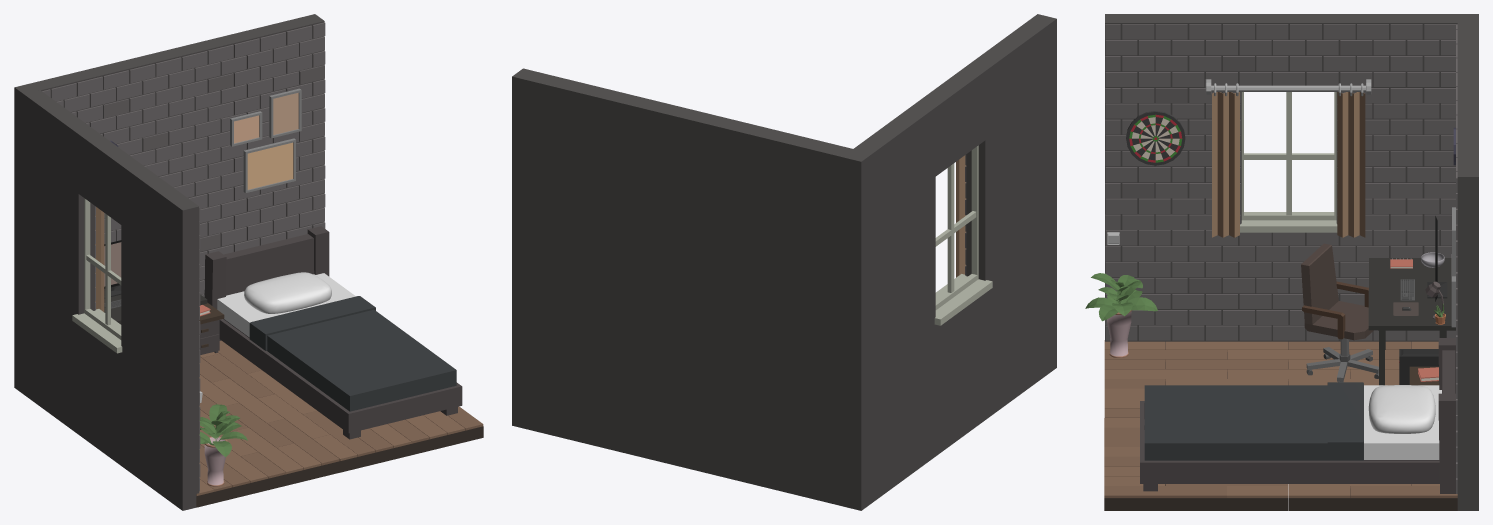
File: Room.glb
3 renders of one model, left to right at view 1: azimuth 30°, elevation 25°; view 2: azimuth 150°, elevation 25°; view 3: azimuth 270°, elevation 25°, orthographic. The views are drawn at different scales.
Parts seen in each view (by area): view 1: Wall_02, Wall_01, Bed, Floor, Bed_01, Picture_01, Picture_02, Flower_03, Picture_03, Bed_Table, Curtains, Flower_02 (+1 smaller); view 2: Wall_01, Wall_02, Curtains; view 3: Wall_02, Bed, Floor, Wall_01, Curtains, OfficeChair, Table, Bed_01, Darts, Flower_03, PC, Flower_02.
Boxes of the visible parts, x1,y1,x2,y2 form: Wall_02: (14,84,200,510); Wall_01: (28,14,325,324); Bed: (204,226,462,439); Floor: (196,340,483,507); Bed_01: (244,272,331,313); Picture_01: (243,138,295,193); Picture_02: (269,88,301,138); Flower_03: (199,404,247,457); Picture_03: (230,111,262,146); Bed_Table: (199,302,224,354); Curtains: (95,207,104,311); Flower_02: (204,436,227,486); Wall_01: (512,68,856,505); Wall_02: (842,14,1056,510); Curtains: (956,155,966,277); Wall_02: (1105,14,1478,343); Bed: (1140,338,1455,493); Floor: (1104,340,1457,510); Wall_01: (1456,21,1478,510); Curtains: (1205,79,1371,237); OfficeChair: (1301,243,1378,382); Table: (1368,258,1455,385); Bed_01: (1368,385,1435,433); Darts: (1126,111,1185,165); Flower_03: (1085,273,1157,321); PC: (1399,349,1438,384); Flower_02: (1107,310,1131,357).
Bounding box in the file's own units: 2.92 × 2.74 × 2.93.
